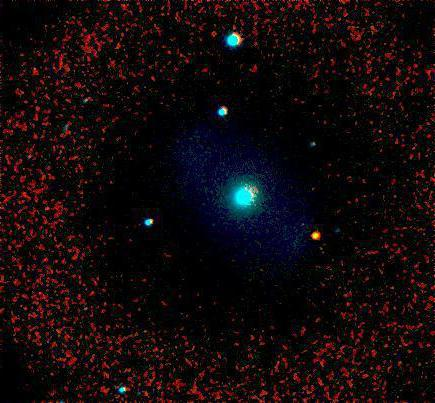star: (302, 220, 332, 250)
